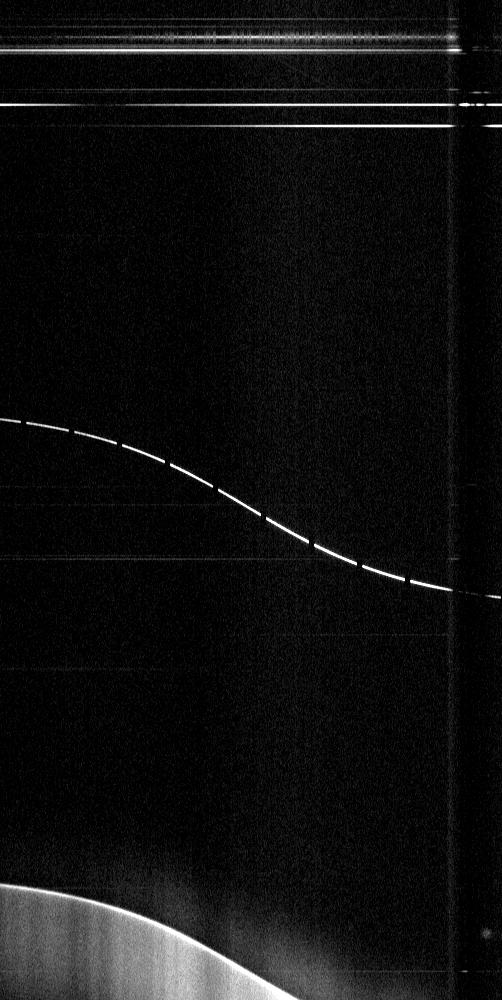signal: (0, 0, 501, 999)
